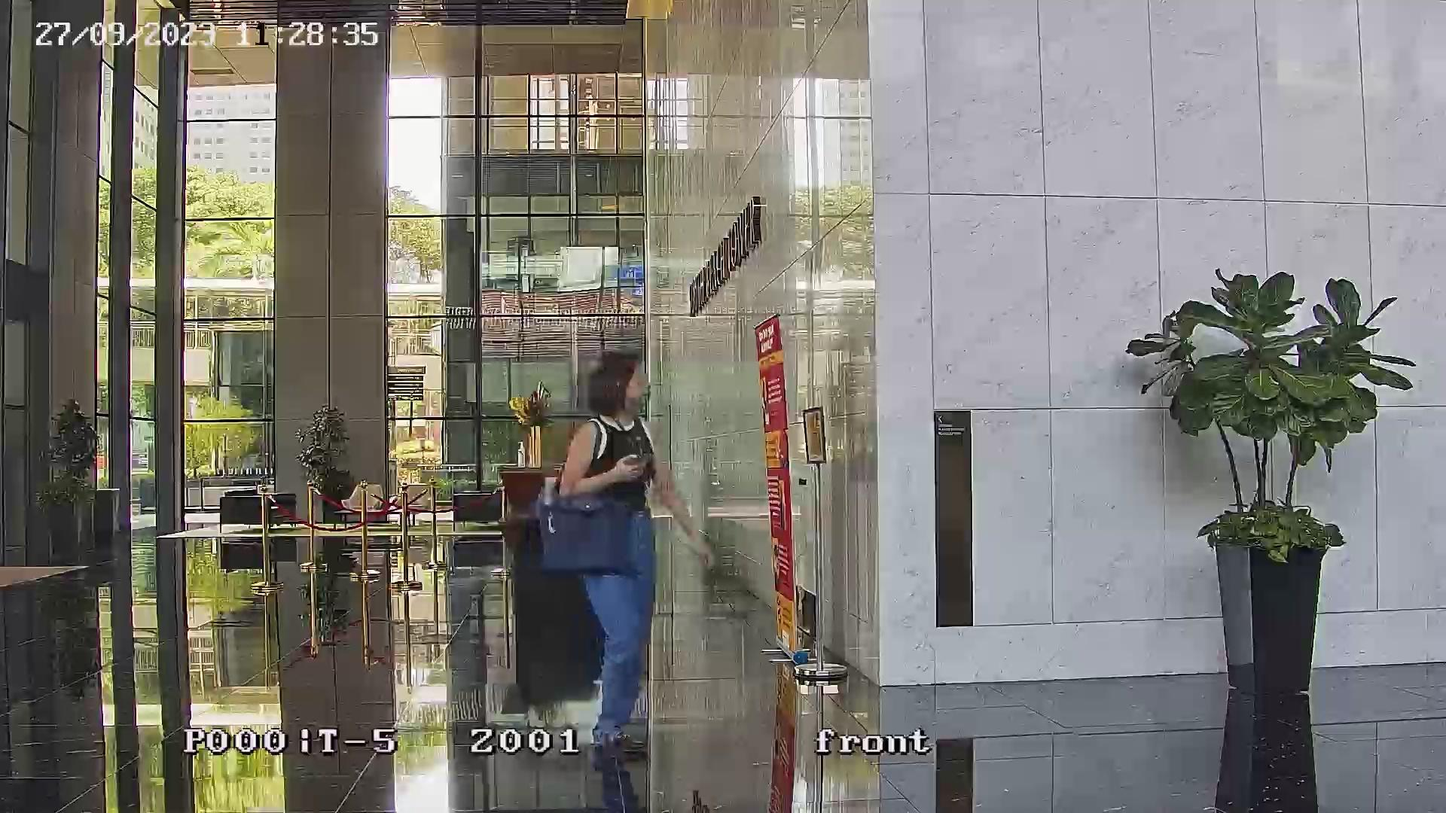person: (558, 346, 712, 757)
